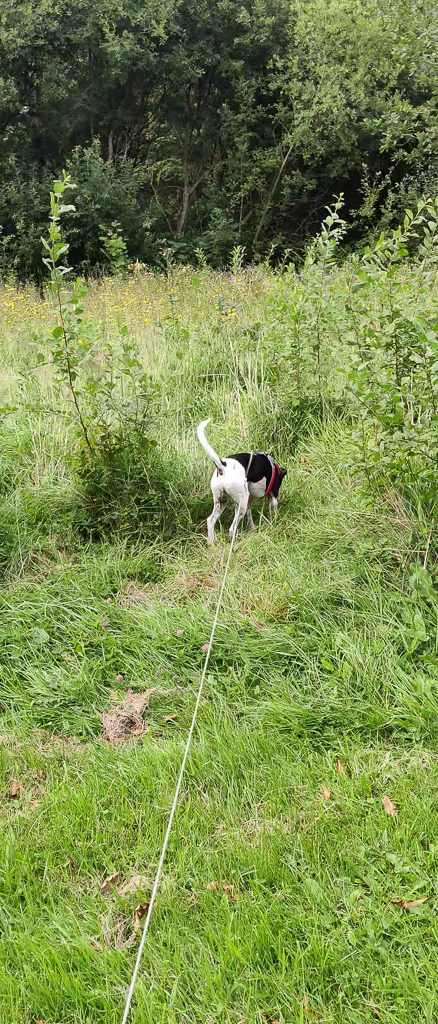Dog: (189, 411, 293, 553)
